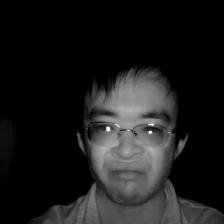sad: (67, 55, 196, 207)
